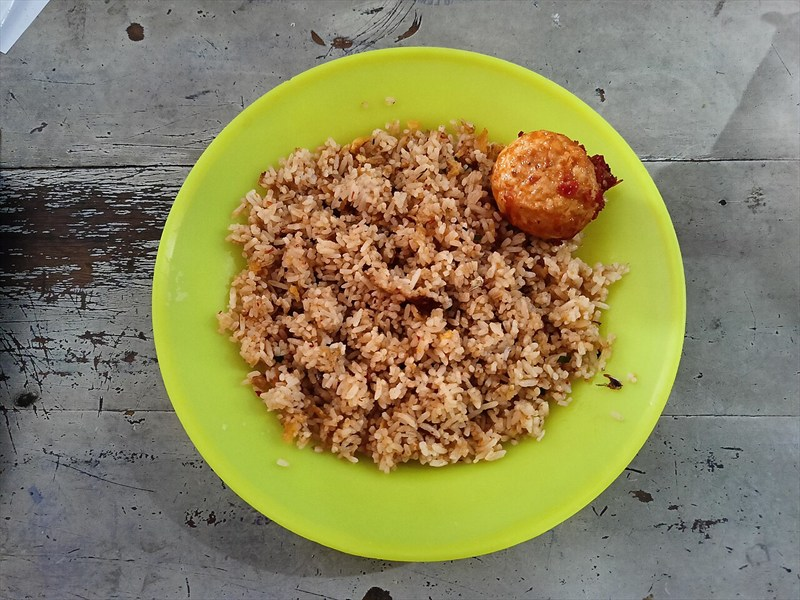Nasi Goreng: (197, 109, 638, 486)
